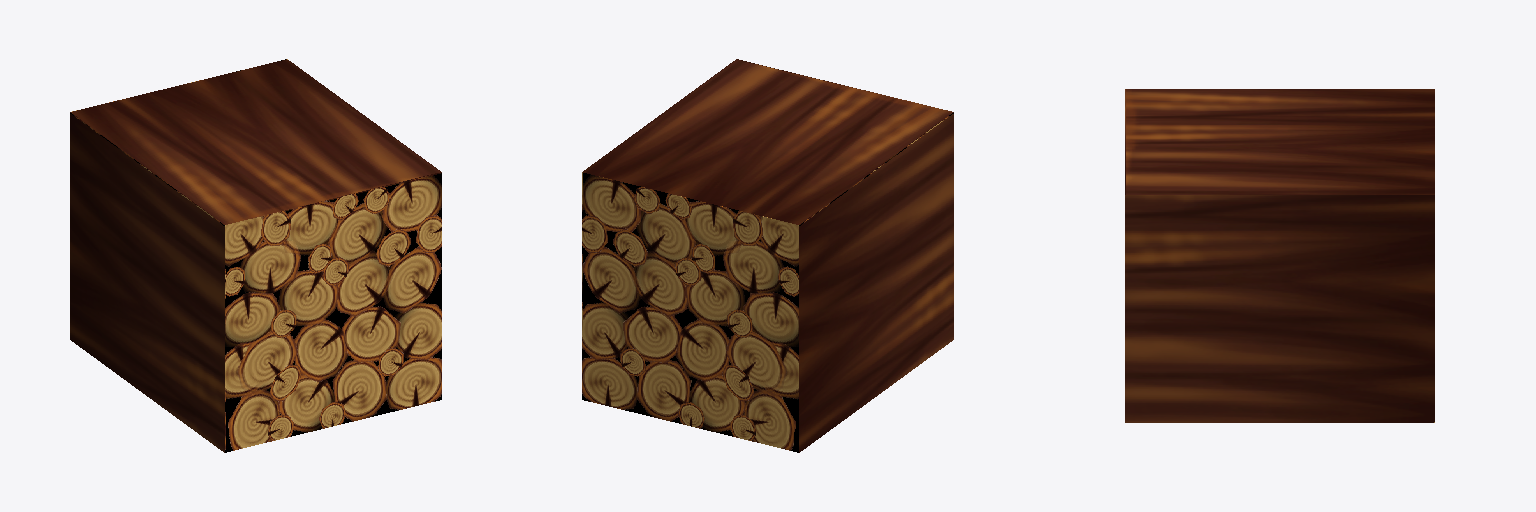
The picture shows the model from 3 angles: view 1: azimuth 30°, elevation 25°; view 2: azimuth 150°, elevation 25°; view 3: azimuth 270°, elevation 25°; orthographic projection.
Visible parts, largest first — view 1: Cube.092_Cube.093; view 2: Cube.092_Cube.093; view 3: Cube.092_Cube.093.
Boxes of the visible parts, x1,y1,x2,y2 form: Cube.092_Cube.093: [70, 59, 441, 452]; Cube.092_Cube.093: [582, 59, 953, 452]; Cube.092_Cube.093: [1125, 89, 1434, 422].
Bounding box in the file's own units: 12.32 × 12.32 × 15.17.
Materials: 1 (1 with a texture image).